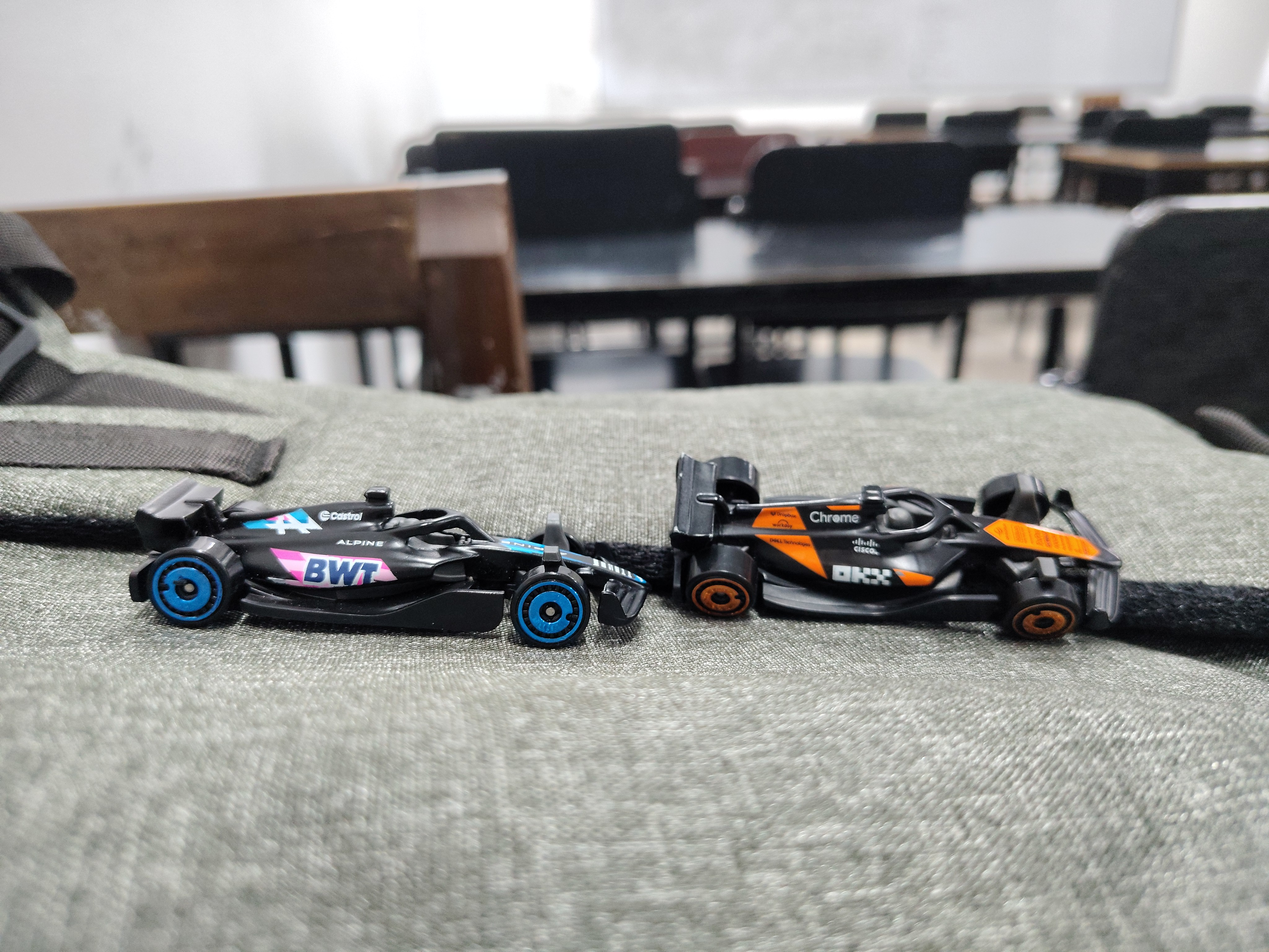Alpine A524: (108, 434, 658, 680)
McLaren MCL40: (617, 404, 1143, 666)
